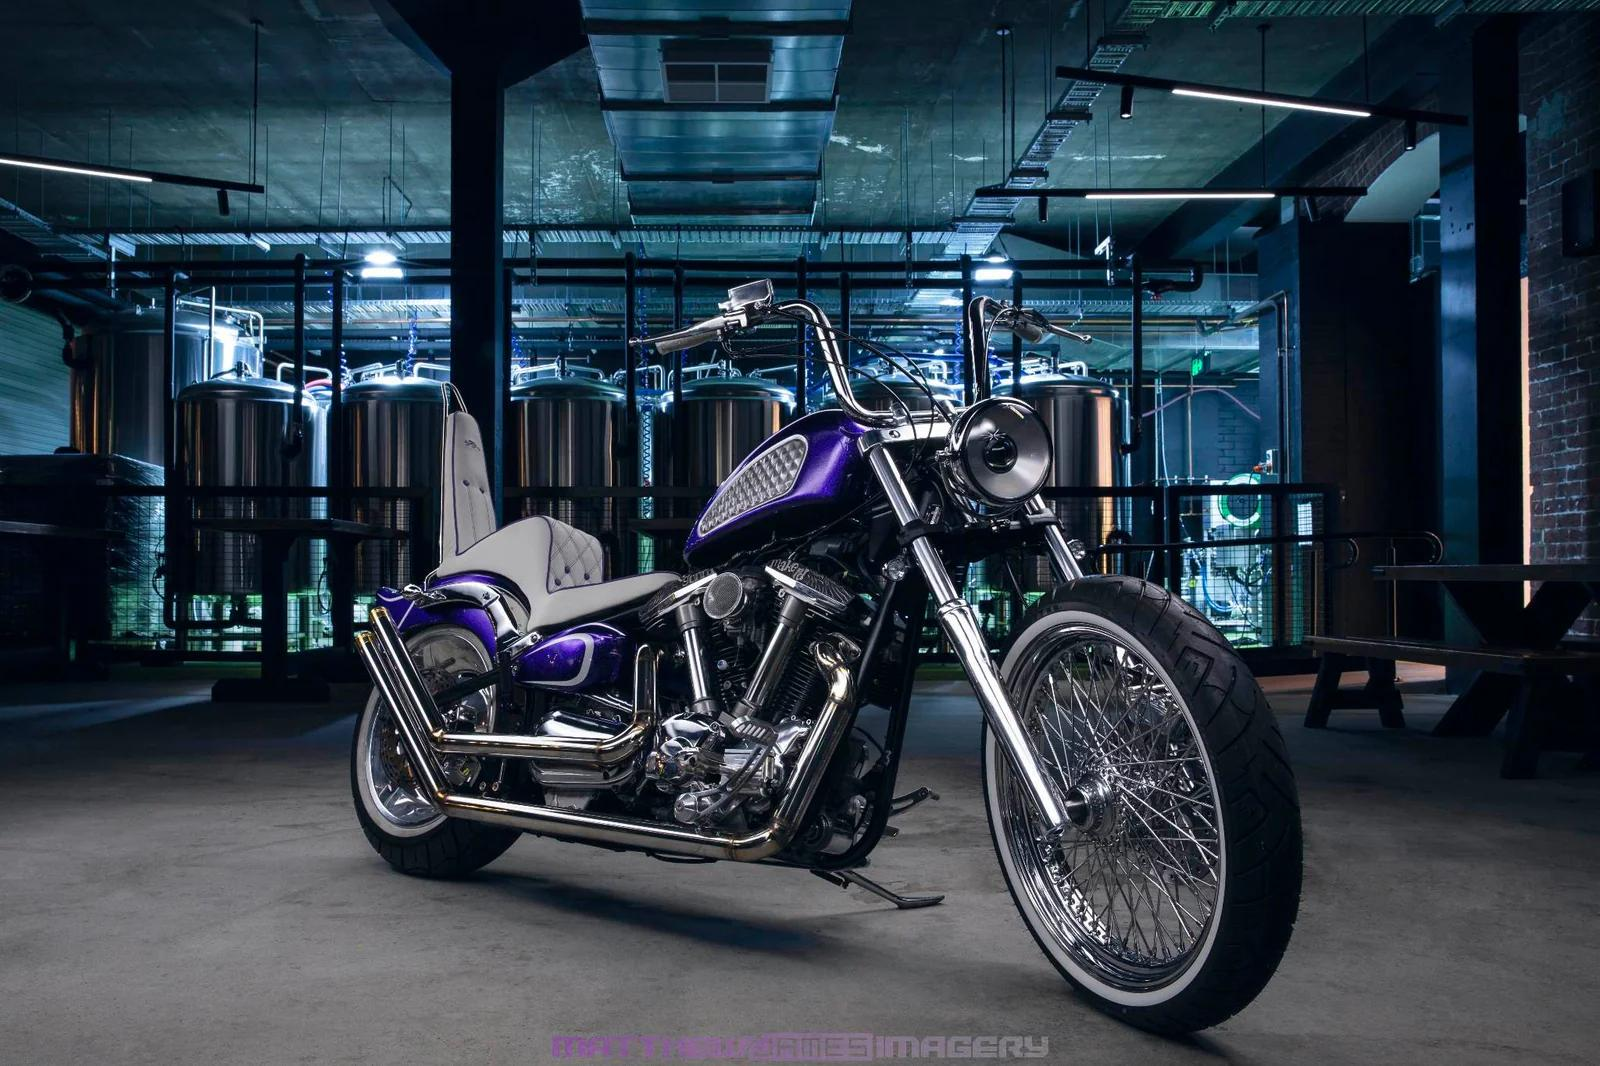motorcycle: (345, 261, 1339, 1046)
